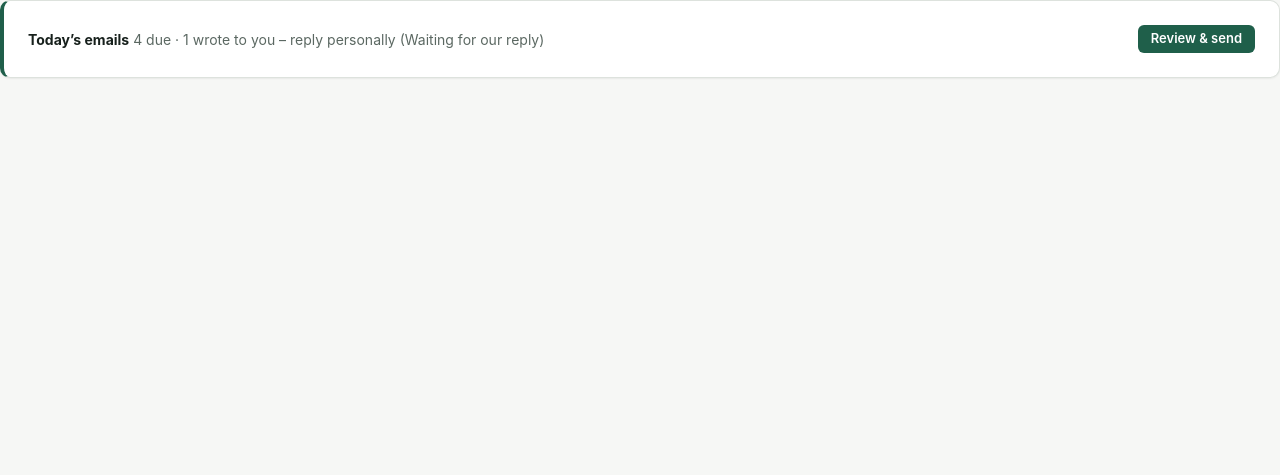
Test case: Today's emails (PIPE-25) › sends what is due in one click, warmest first, within the daily limit
Expected: the text "4 due · 1 wrote to you – reply personally" is shown, x1=133 y1=30 x2=544 y2=48
Click the button "Review & send": (1196, 39) x1=1138 y1=25 x2=1255 y2=53
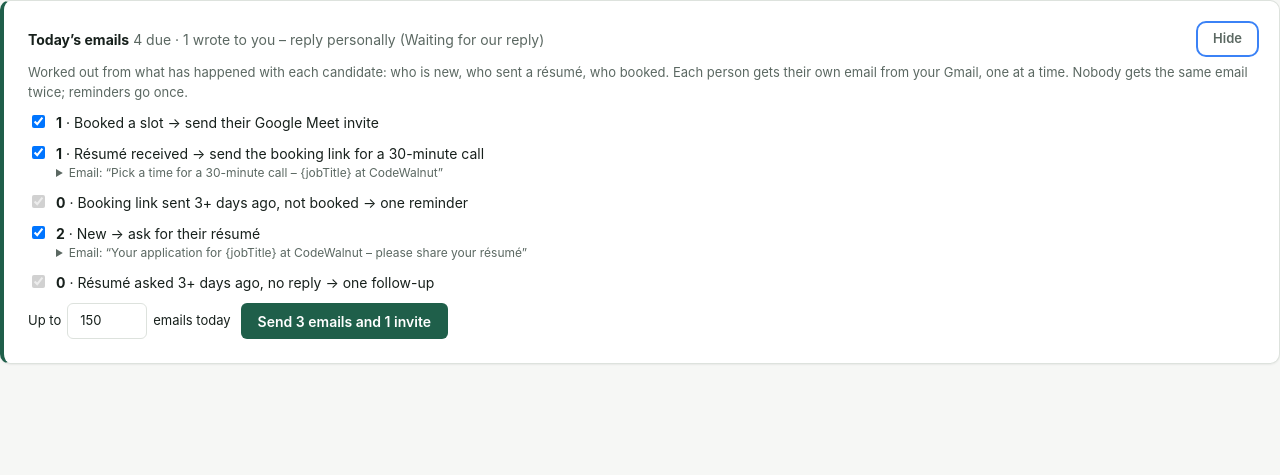
Expected: the button "Send 3 emails and 1 invite" is enabled
Click the button "Send 3 emails and 1 invite": (344, 321) x1=241 y1=303 x2=448 y2=339
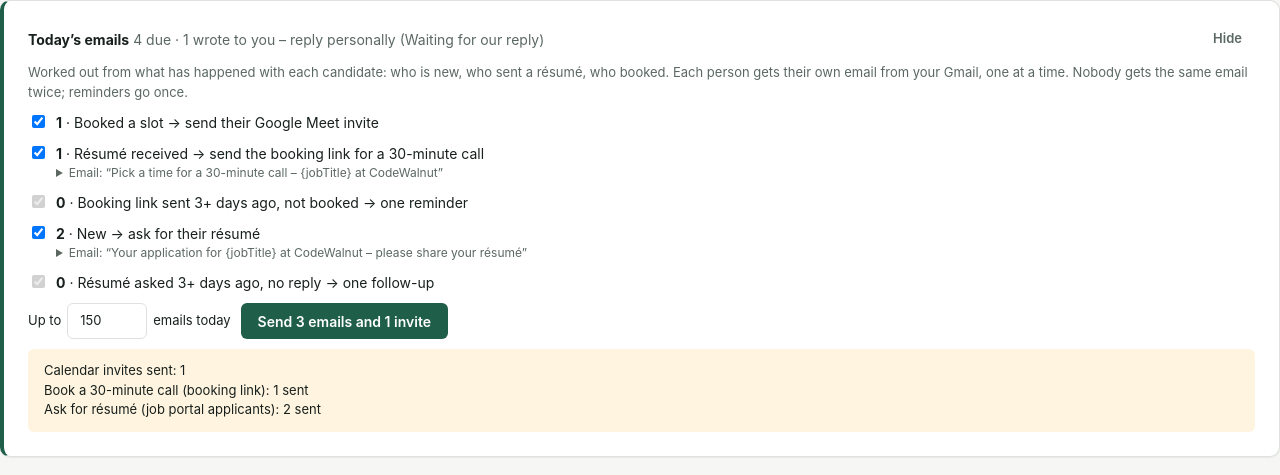
Expected: the text "Calendar invites sent: 1" is shown, x1=44 y1=362 x2=185 y2=378
Expected: the text "Book a 30-minute call (booking link): 1 sent" is shown, x1=44 y1=382 x2=309 y2=398
Expected: the text "Ask for résumé (job portal applicants): 2 sent" is shown, x1=44 y1=401 x2=321 y2=417
